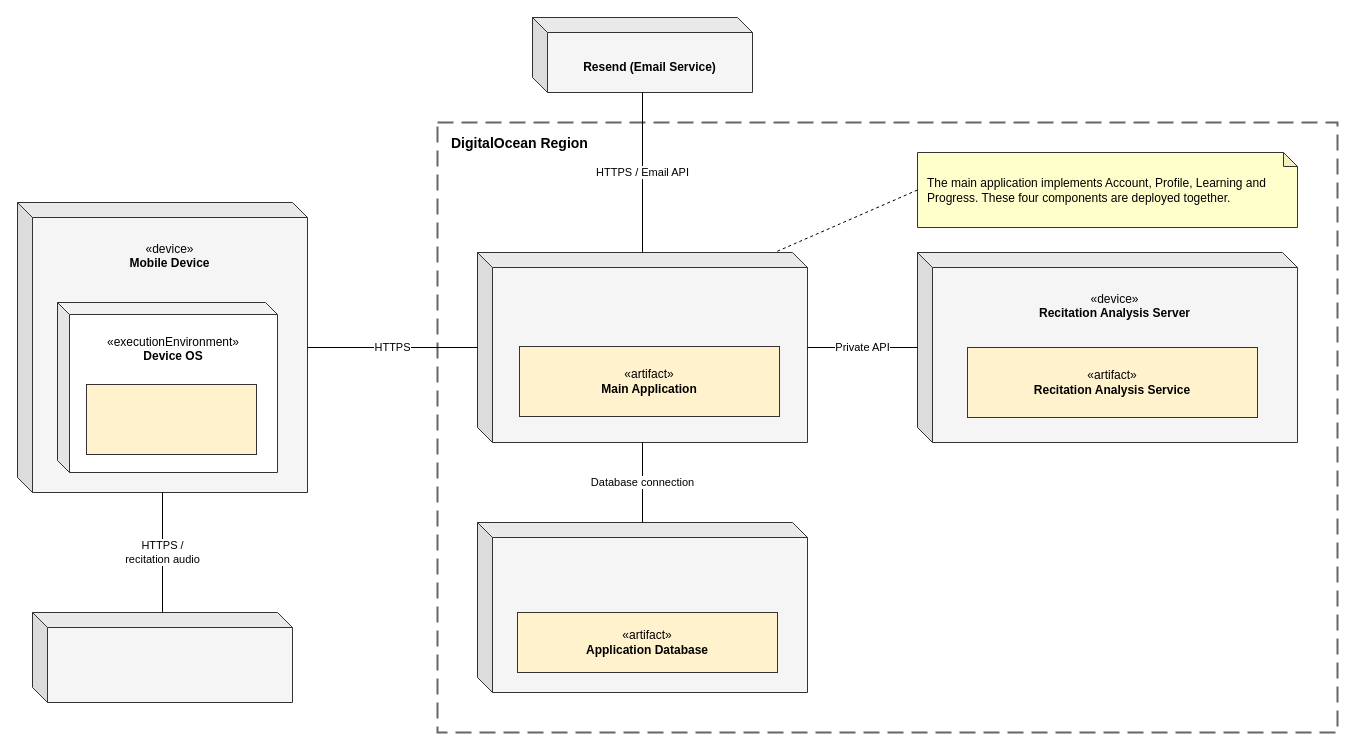
The diagram is 1356 pixels wide and 751 high, and some of its shapes have lost their labels. The shapes that lost their labels are listed below. From the top down, each one's box as (x1, y1, x2, y2) in pixels, then its label:
(476, 252, 808, 442): «device» Main Application Server
(86, 384, 256, 454): «artifact» Mobile App
(476, 522, 808, 692): «device» Database Server
(32, 612, 292, 702): Quran Universal Library (QUL)
